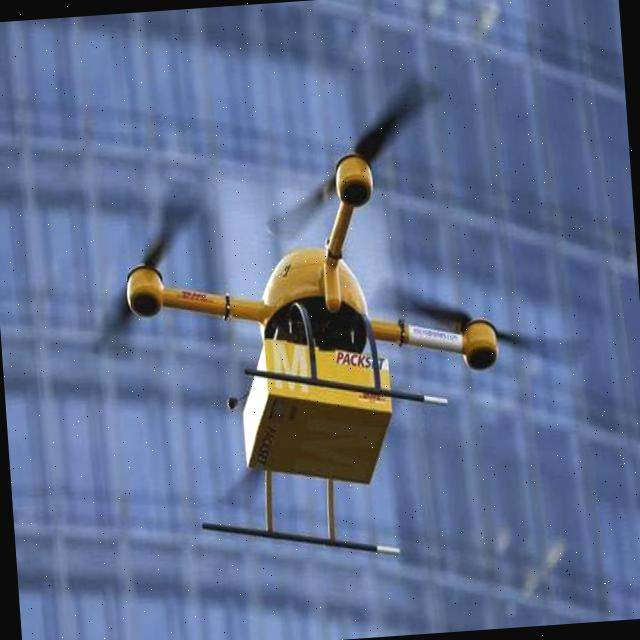drone: (70, 118, 530, 448)
